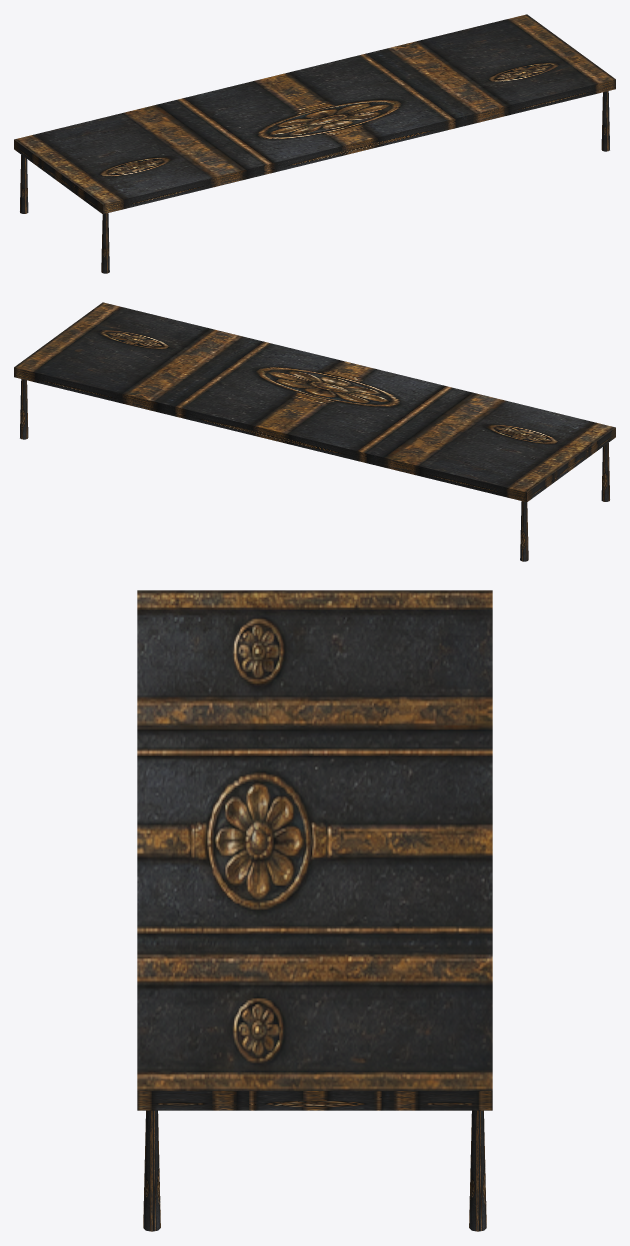
Rendered from banquet-table.gltf.
3 views of the same model, one above another, from view 1: azimuth 30°, elevation 25°; view 2: azimuth 150°, elevation 25°; view 3: azimuth 270°, elevation 25° (orthographic). The views are drawn at different scales.
Parts seen in each view (by area): view 1: kit:0:furniture:mahogany:; view 2: kit:0:furniture:mahogany:; view 3: kit:0:furniture:mahogany:.
Part boxes in pixels (x1,y1,x2,y2): kit:0:furniture:mahogany:: (14,14,615,273); kit:0:furniture:mahogany:: (14,302,615,561); kit:0:furniture:mahogany:: (137,590,492,1231).
Bounding box in the file's own units: 6 × 0.8 × 1.8.
1 material, 1 textured.
